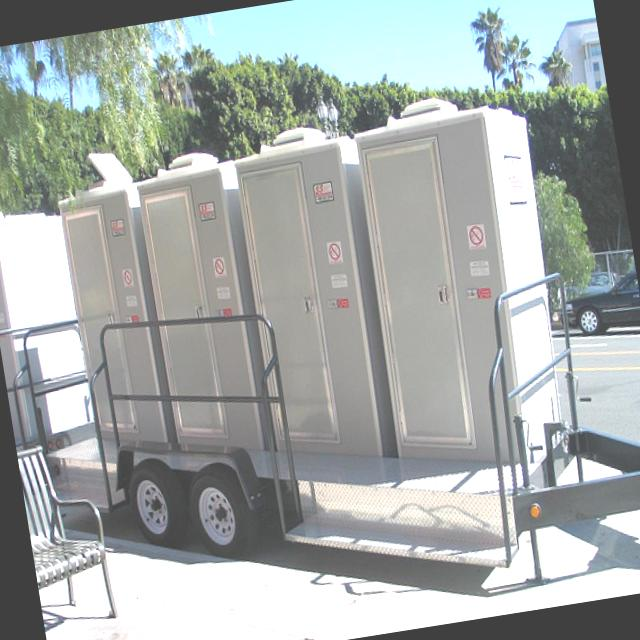Vehicle: (0, 66, 640, 640), (561, 271, 640, 340), (578, 268, 624, 295)
